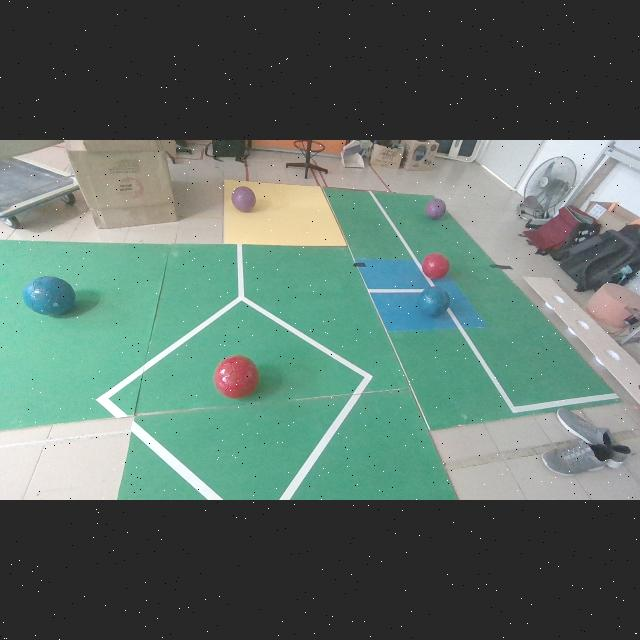B: (23, 277, 75, 315), (419, 287, 450, 316)
P: (231, 186, 255, 213), (425, 199, 447, 219)
R: (214, 355, 259, 399), (423, 253, 449, 279)
